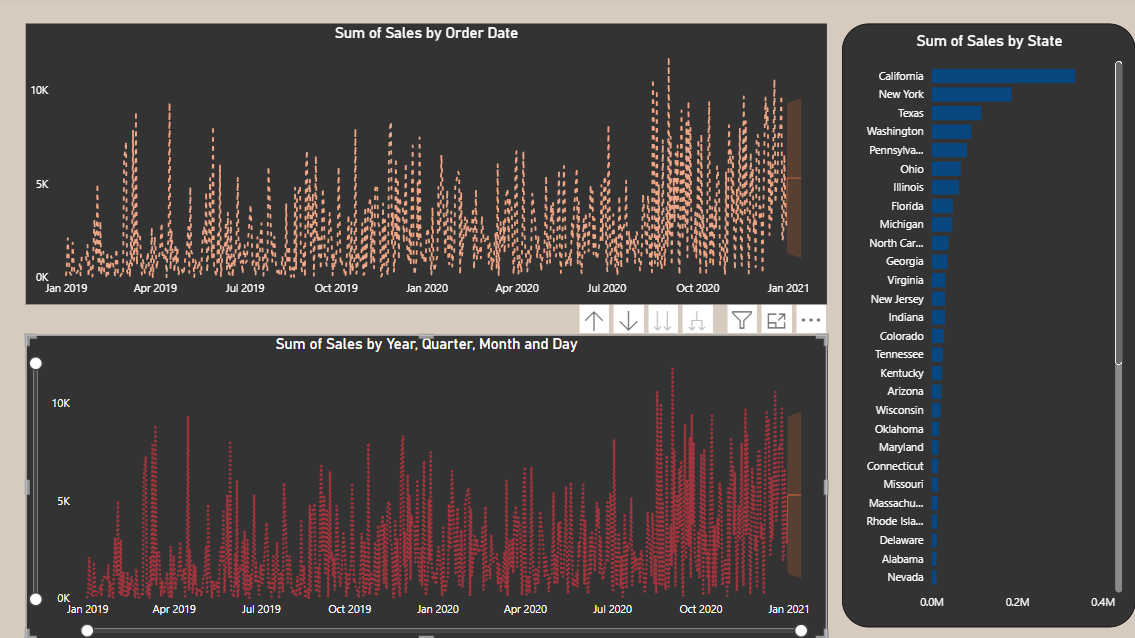

Layout of this report page (visuals, bound fields, positions):
{"tool":"powerbi","page":{"name":"Page 2","canvas":[1280,720],"ordinal":1},"visuals":[{"type":"lineChart","fields":{"Y":["Sum(SuperStore_Sales_Dataset.Sales)"],"Category":["SuperStore_Sales_Dataset.Order Date"]},"box":[37.1,31.4,897.1,314.3],"z":0},{"type":"lineChart","fields":{"Y":["Sum(SuperStore_Sales_Dataset.Sales)"],"Category":["SuperStore_Sales_Dataset.Order Date.Variation.Date Hierarchy.Year","SuperStore_Sales_Dataset.Order Date.Variation.Date Hierarchy.Quarter","SuperStore_Sales_Dataset.Order Date.Variation.Date Hierarchy.Month","SuperStore_Sales_Dataset.Order Date.Variation.Date Hierarchy.Day"]},"box":[37.1,378.6,897.1,341.4],"z":1000},{"type":"clusteredBarChart","fields":{"Y":["Sum(SuperStore_Sales_Dataset.Sales)"],"Category":["SuperStore_Sales_Dataset.State"]},"box":[951.4,31.4,328.6,675.7],"z":2000}]}

Visuals, with their boxes in screenshot pixels (x1, y1, x2, y2), scaled from the page's 1280x720 canvas onto the 1135x638 screenshot:
lineChart - Sum(SuperStore_Sales_Dataset.Sales) x SuperStore_Sales_Dataset.Order Date: rect(33, 28, 828, 306)
lineChart - Sum(SuperStore_Sales_Dataset.Sales) x SuperStore_Sales_Dataset.Order Date.Variation.Date Hierarchy.Year: rect(33, 335, 828, 637)
clusteredBarChart - Sum(SuperStore_Sales_Dataset.Sales) x SuperStore_Sales_Dataset.State: rect(844, 28, 1134, 627)
